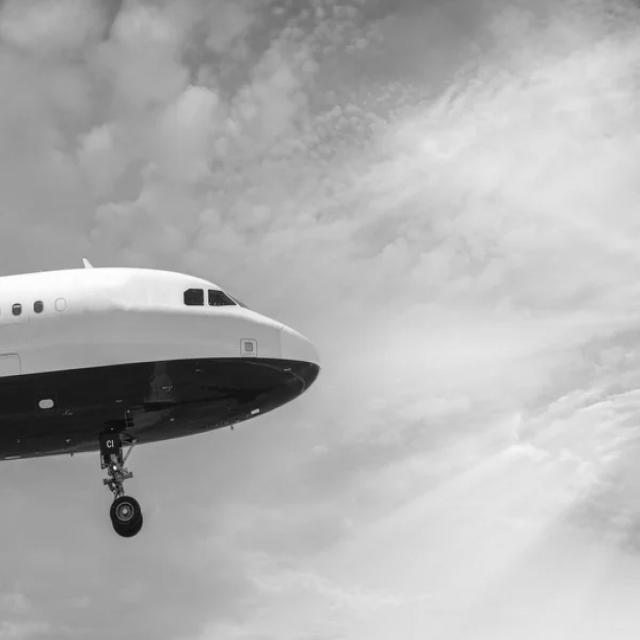Aircraft: (0, 235, 339, 538)
